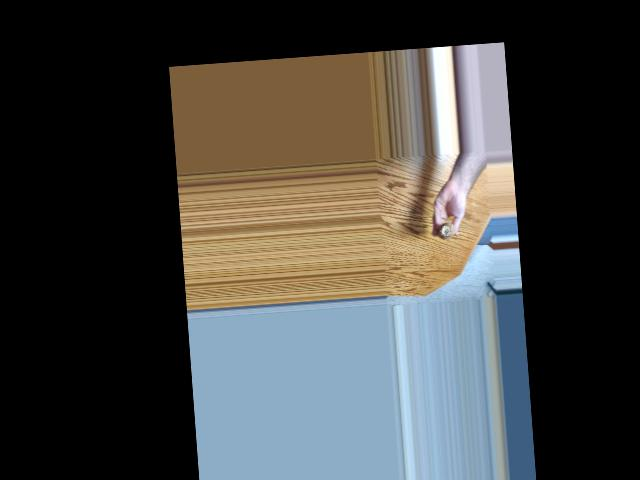sweet_potato: (439, 221, 457, 244)
